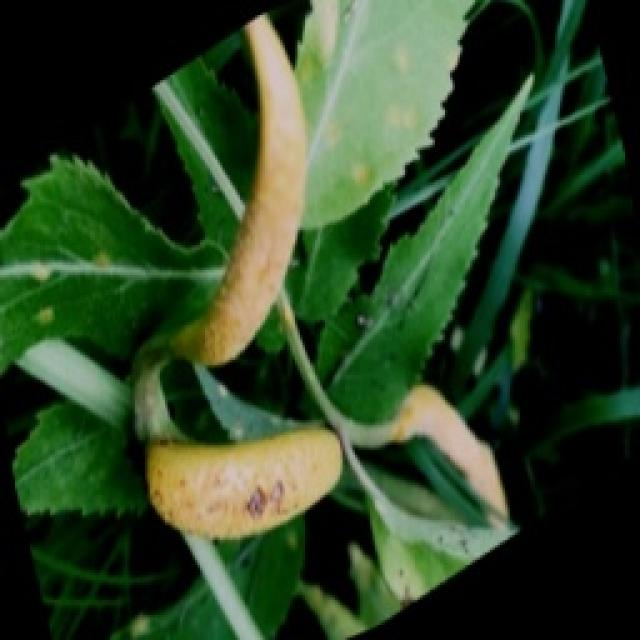Elderberry_rust: (215, 8, 352, 378), (142, 422, 342, 540)
